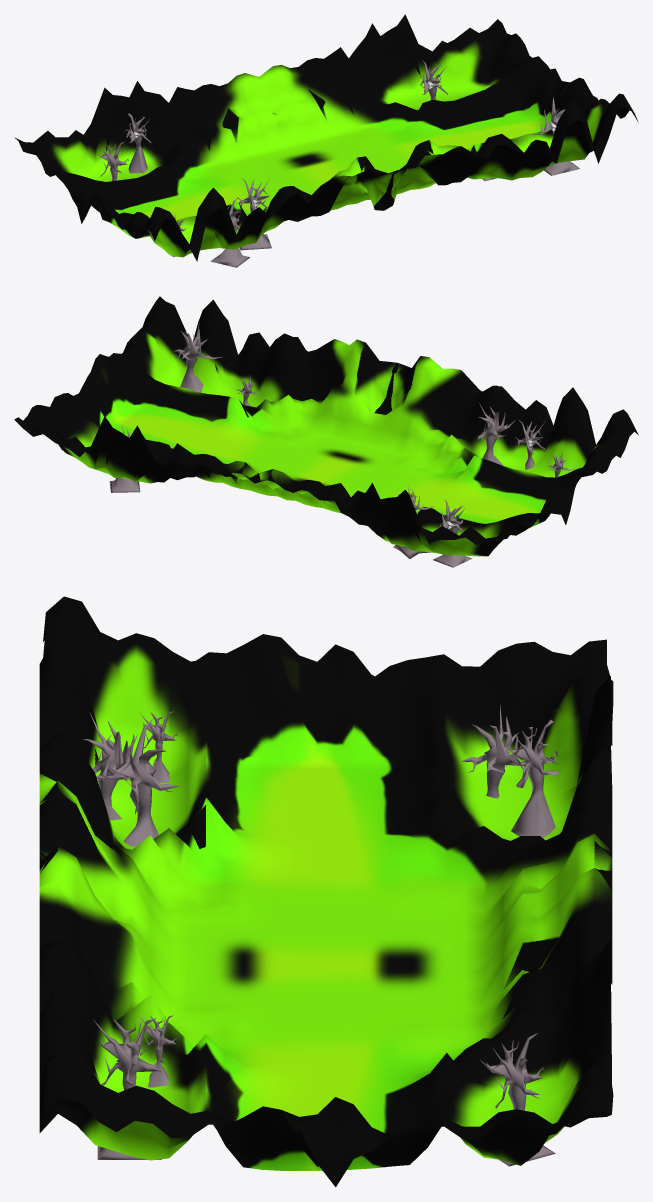
File: snowmap.glb
The picture shows the model from 3 angles, top to bottom: view 1: azimuth 30°, elevation 25°; view 2: azimuth 150°, elevation 25°; view 3: azimuth 270°, elevation 25°; orthographic projection. The views are drawn at different scales.
Parts seen in each view (by area): view 1: Plane, tree_03.001, tree_03.003, tree_03.006, tree_03.005, tree_03.008, tree_03.002; view 2: Plane, tree_03.006, tree_03.003, tree_03.002, tree_03.005, tree_03.008; view 3: Plane, tree_03.003, tree_03.001, tree_03.006, tree_03.008, tree_03.002, tree_03.005, tree_03.007, tree_03.004.
Part boxes in pixels (x1,y1,x2,y2): Plane: (14, 14, 638, 261); tree_03.001: (124, 113, 151, 173); tree_03.003: (237, 177, 271, 250); tree_03.006: (531, 97, 579, 175); tree_03.005: (210, 198, 249, 267); tree_03.008: (419, 60, 447, 100); tree_03.002: (99, 141, 128, 181); Plane: (14, 296, 638, 556); tree_03.006: (173, 321, 222, 392); tree_03.003: (477, 403, 515, 465); tree_03.002: (433, 499, 472, 567); tree_03.005: (515, 420, 545, 469); tree_03.008: (109, 425, 140, 492); Plane: (39, 596, 613, 1187); tree_03.003: (96, 719, 179, 846); tree_03.001: (504, 719, 560, 838); tree_03.006: (93, 1018, 164, 1159); tree_03.008: (480, 1033, 555, 1166); tree_03.002: (461, 704, 555, 798); tree_03.005: (83, 712, 156, 820); tree_03.007: (139, 1015, 177, 1087); tree_03.004: (139, 711, 178, 783).
Size of the model in its own units: 158 by 30.17 by 80.92.
Materials: 3 (1 with a texture image).
